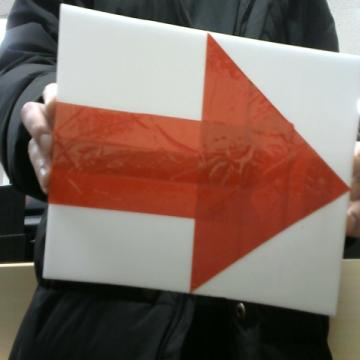red_right: (48, 34, 348, 291)
